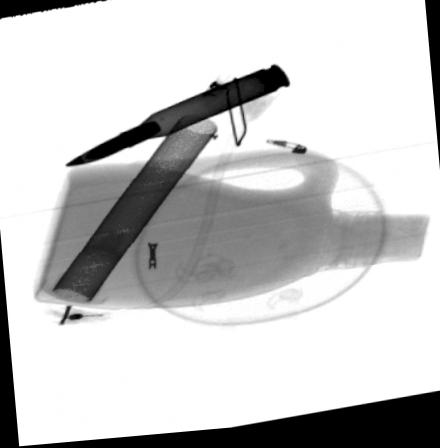Bullet: (59, 68, 292, 170)
